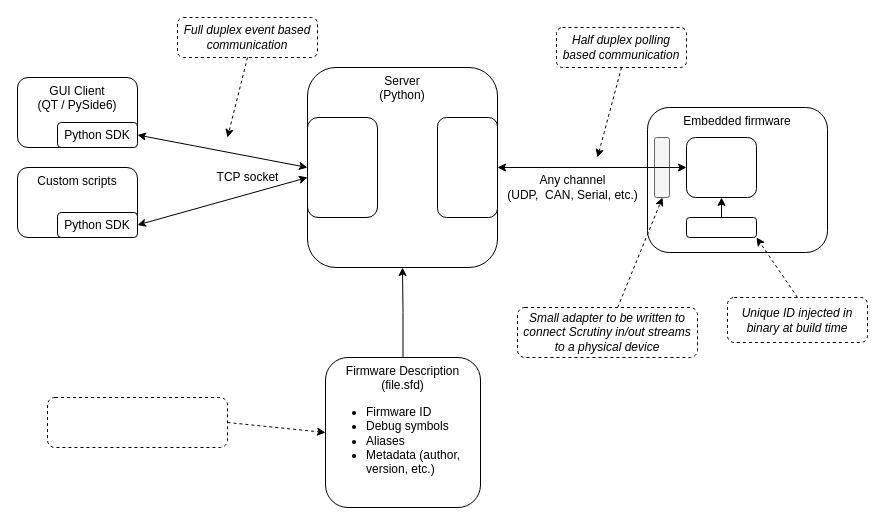
This 885x525 diagram has some shape labels left out. The shapes that lost their labels are listed below. From the top down, each one's centre as x and y in pixels, then its label:
At point 342,167: "Multiclient socket API".
At point 467,167: "Device Handler".
At point 721,167: "Scrutiny lib (C++11)".
At point 721,227: "Firmware ID".
At point 137,422: "Automatically loaded upon connection with the device (based on Firmware ID)".
